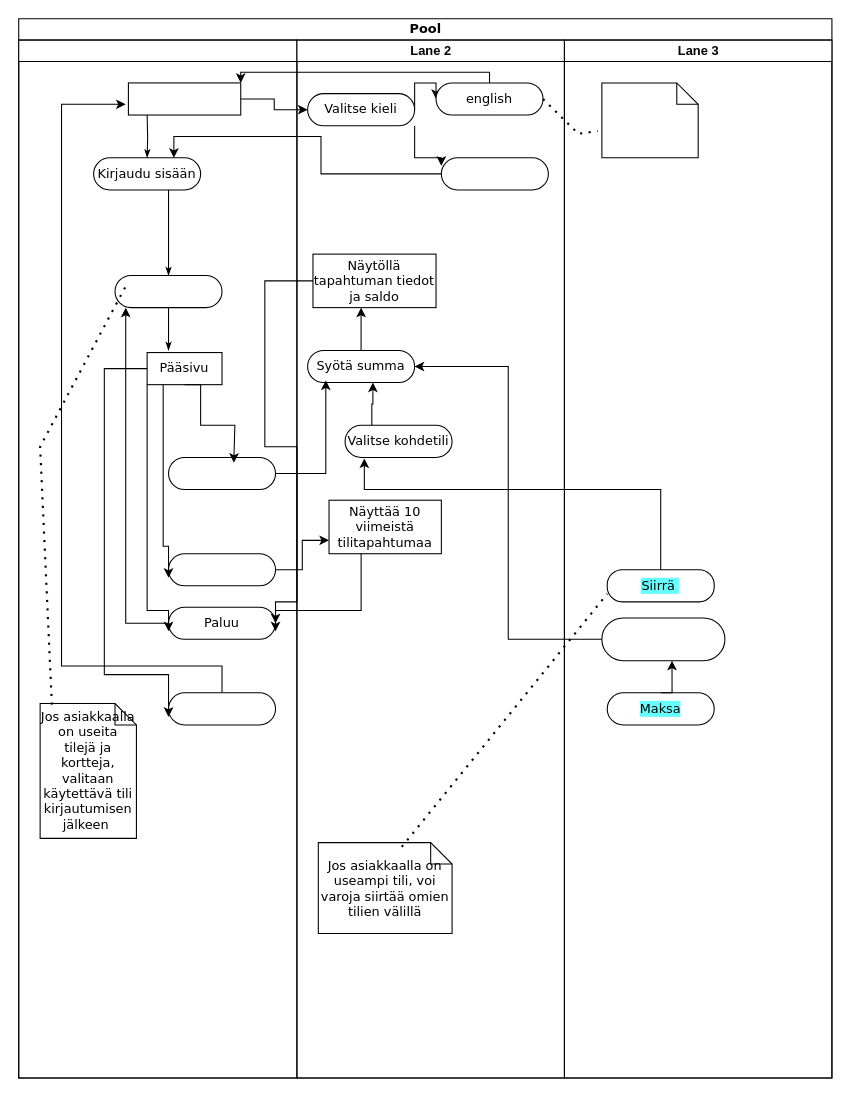
Some shapes in this 851 by 1097 pixel diagram are drawn without their labels. The centre of each missing label's shape, as x and y in pixels:
Aloitusnäyttö: pixel 184 98
Kirjaudu ulos: pixel 221 708
Muuttaa tekstit englanniksi, sama sisältö: pixel 649 120
Nosto: pixel 221 473
suomi: pixel 494 173
Syötä saajan tilinumero: pixel 663 639
Tilitapahtumat: pixel 221 569
Valitse tili: pixel 168 291
